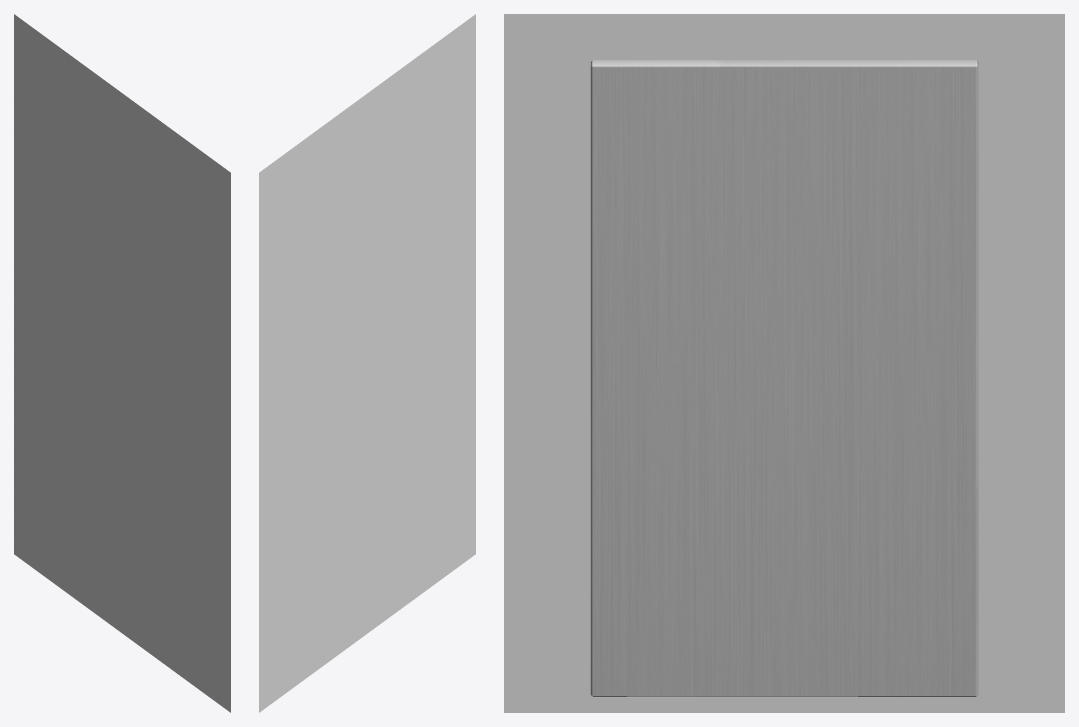
The model's file is Panel_Light.fbx.
3 renders of one model, left to right at view 1: azimuth 30°, elevation 25°; view 2: azimuth 150°, elevation 25°; view 3: azimuth 270°, elevation 25°, orthographic. The views are drawn at different scales.
Visible parts, largest first — view 1: Panel_Light_SurfaceLight; view 2: Panel_Light_SurfaceLight; view 3: Panel_Light_Panel, Panel_Light_SurfaceLight.
Boxes of the visible parts, bbox=[...] form: Panel_Light_SurfaceLight: bbox=[14, 14, 230, 712]; Panel_Light_SurfaceLight: bbox=[259, 14, 475, 712]; Panel_Light_Panel: bbox=[590, 60, 978, 697]; Panel_Light_SurfaceLight: bbox=[504, 14, 1064, 712].
Size of the model in its own units: 0.185 by 4.51 by 3.28.
2 materials, 2 textured.
